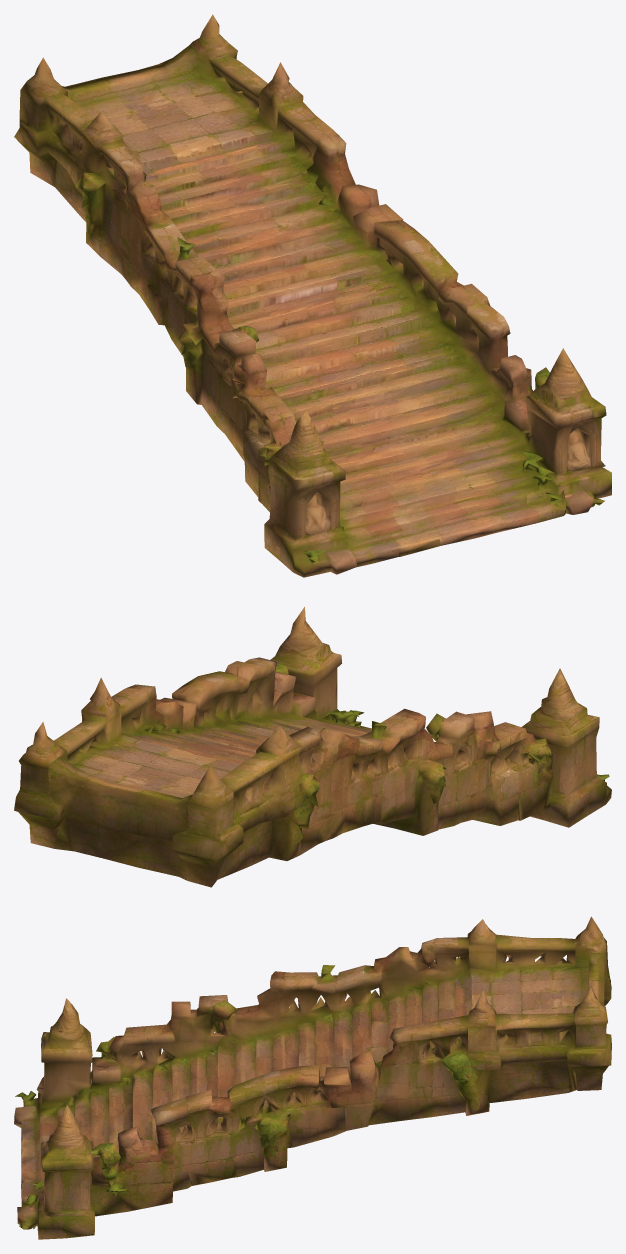
The model's file is p_stair.glb.
3 renders of one model, top to bottom at view 1: azimuth 30°, elevation 25°; view 2: azimuth 150°, elevation 25°; view 3: azimuth 270°, elevation 25°, orthographic. The views are drawn at different scales.
Parts seen in each view (by area): view 1: tripo_node_3cffdc93-9543-4918-8709-390e99d3e59d; view 2: tripo_node_3cffdc93-9543-4918-8709-390e99d3e59d; view 3: tripo_node_3cffdc93-9543-4918-8709-390e99d3e59d.
Boxes of the visible parts, x1,y1,x2,y2 form: tripo_node_3cffdc93-9543-4918-8709-390e99d3e59d: [14, 14, 611, 577]; tripo_node_3cffdc93-9543-4918-8709-390e99d3e59d: [14, 607, 611, 887]; tripo_node_3cffdc93-9543-4918-8709-390e99d3e59d: [14, 916, 611, 1239].
Size of the model in its own units: 1.27 by 1 by 2.41.
1 material, 1 textured.
